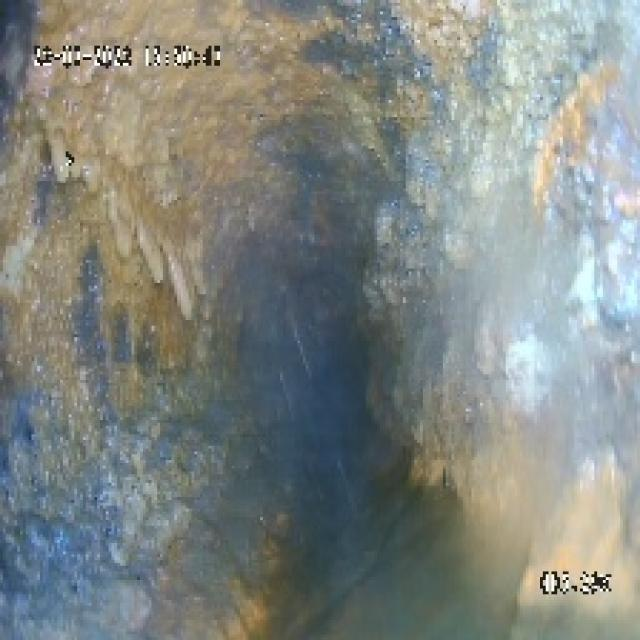encrustation: (77, 103, 597, 460)
